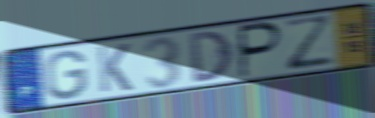3: (143, 32, 185, 92)
D: (186, 28, 236, 85)
G: (43, 48, 89, 101)
K: (94, 42, 135, 95)
P: (237, 20, 285, 81)
Z: (281, 13, 337, 74)
